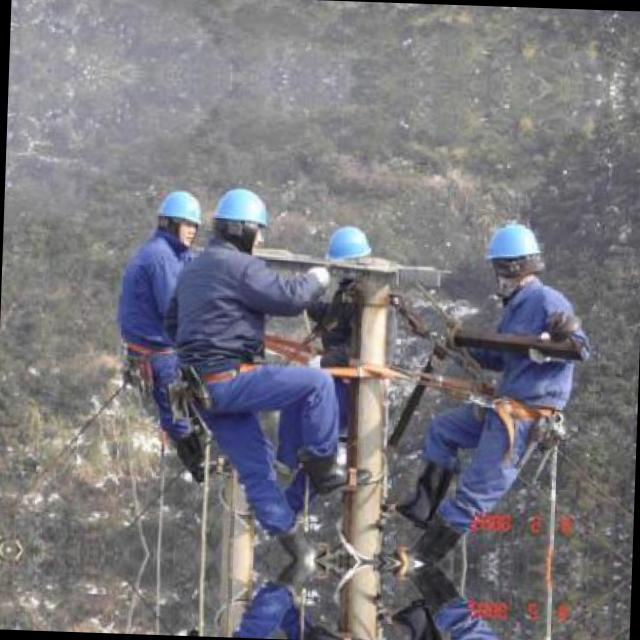helmet: (204, 181, 274, 256), (480, 216, 548, 289), (319, 221, 375, 286), (152, 188, 205, 248)
